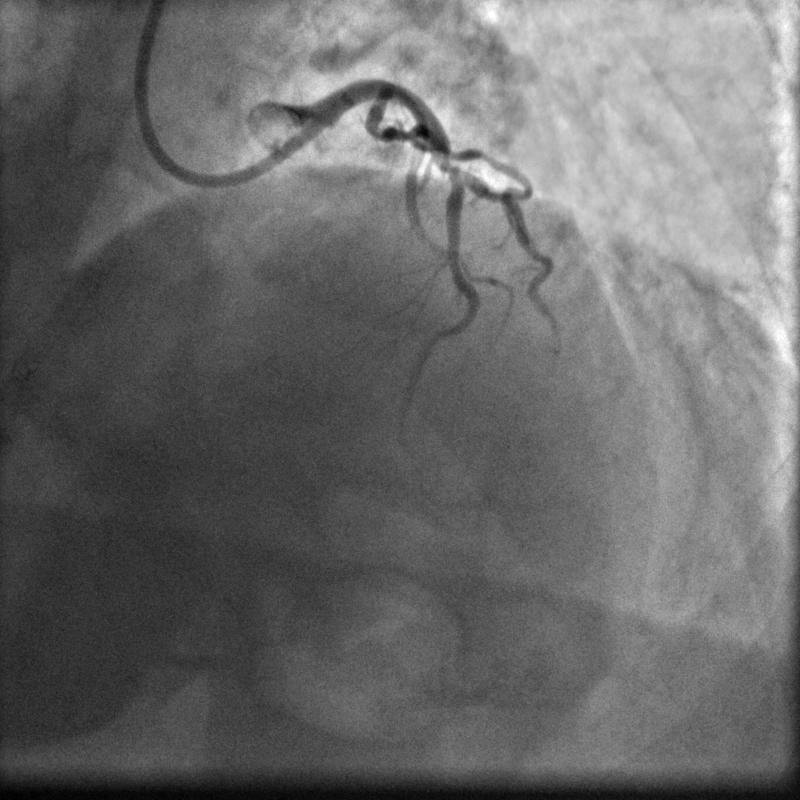Stenosis: (431, 157, 461, 174)
